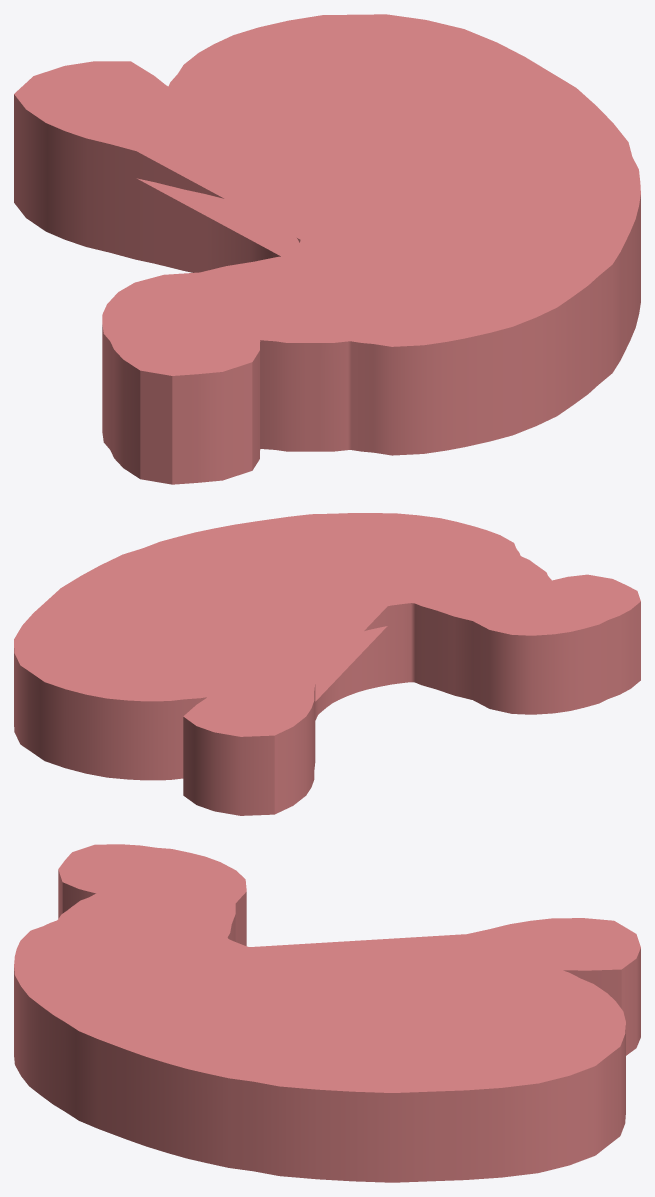
File: 2016_12_04_Extruded_Stomach_No_Cuts.fbx
The picture shows the model from 3 angles, top to bottom: view 1: azimuth 30°, elevation 25°; view 2: azimuth 150°, elevation 25°; view 3: azimuth 270°, elevation 25°; orthographic projection. The views are drawn at different scales.
Parts seen in each view (by area): view 1: polySurface1; view 2: polySurface1; view 3: polySurface1.
Boxes of the visible parts, <box> form: polySurface1: <box>14,14,640,484</box>; polySurface1: <box>14,513,640,815</box>; polySurface1: <box>14,844,640,1182</box>.
Size of the model in its own units: 23.82 by 4 by 25.35.
